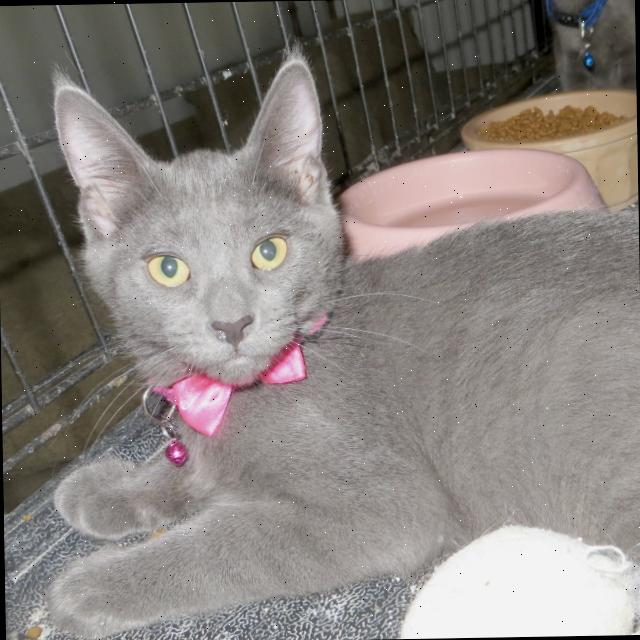russian_blue_cat: (34, 34, 375, 433)
